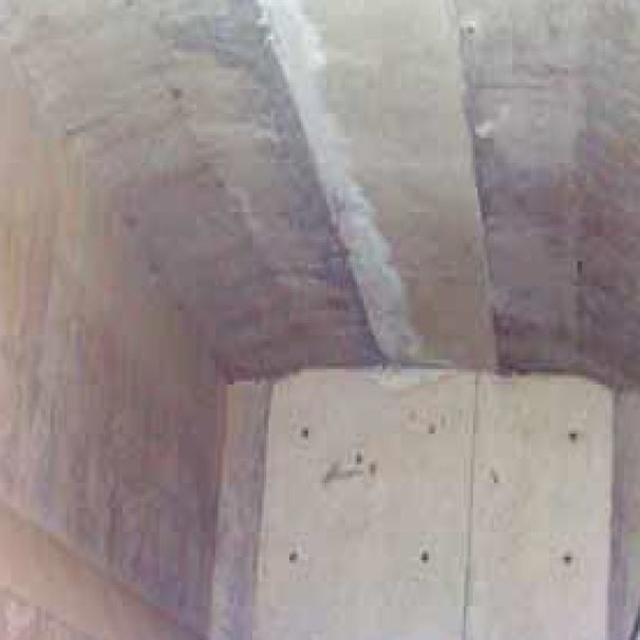freelime: (278, 56, 442, 396)
